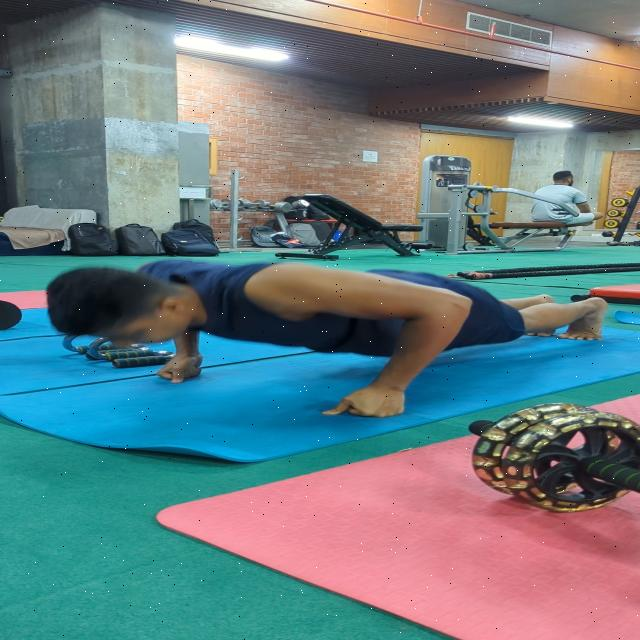Normal_PushUps: (33, 255, 631, 422)
